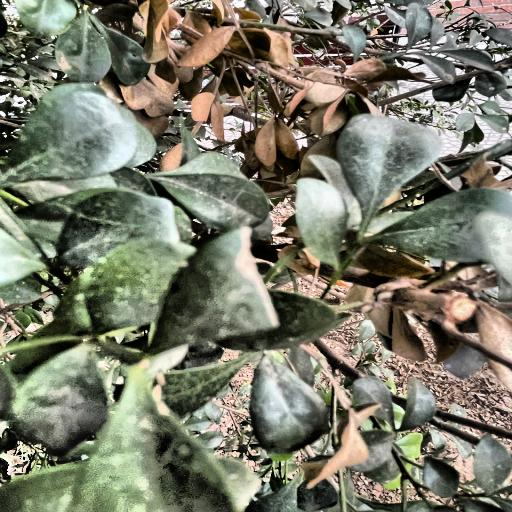la heo: (128, 8, 377, 129)
la xanh: (6, 133, 262, 485)
